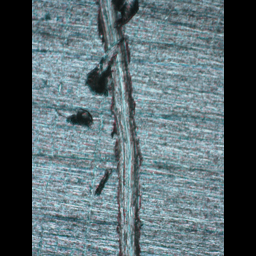d: (59, 0, 152, 256)
